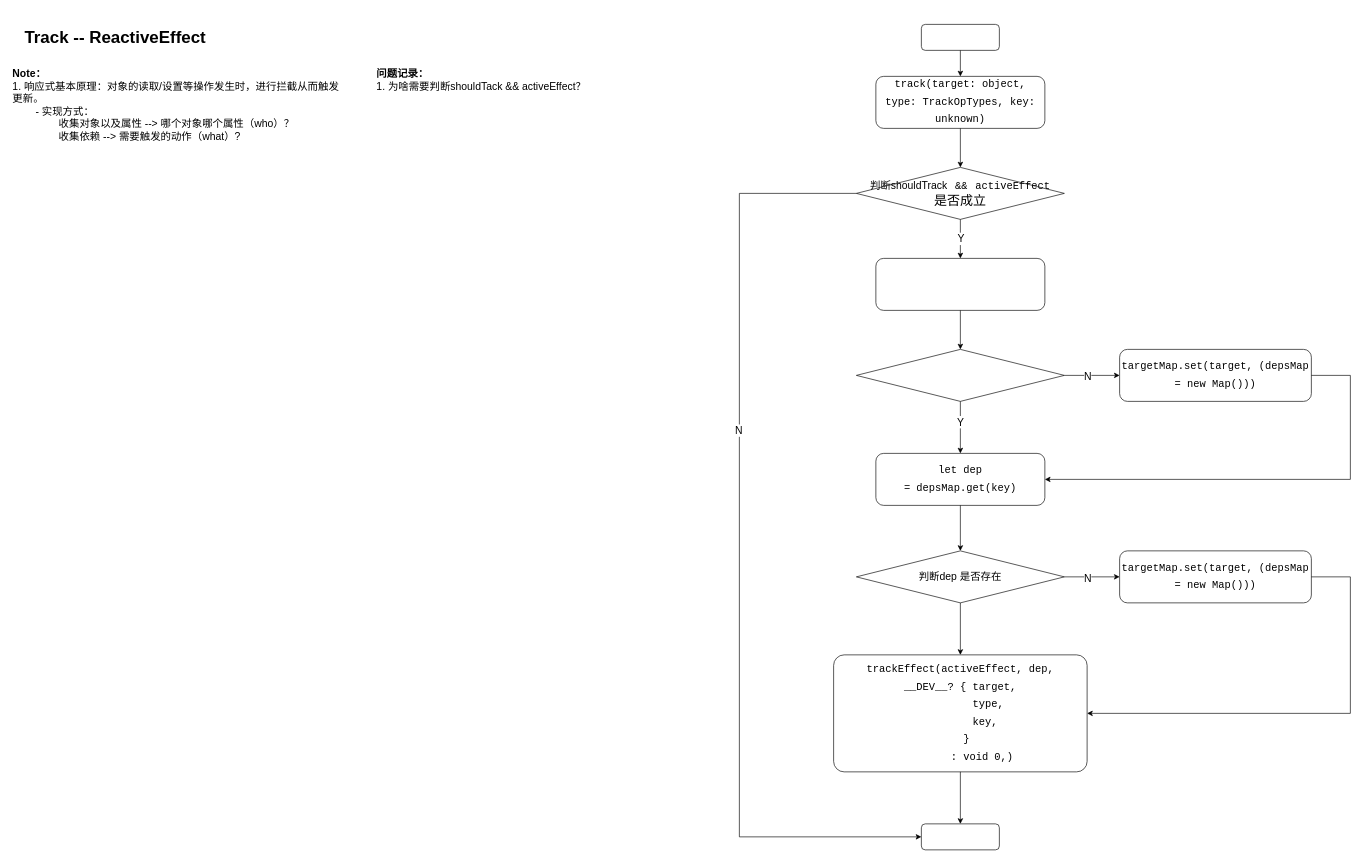
Some shapes in this 1367 by 861 pixel diagram are drawn without their labels. Each missing label, with the centre of its shape:
"let depsMap = targetMap.get(target)" belongs at pixel 960 284.
"判断depsMap 是否存在" belongs at pixel 960 375.
"开始" belongs at pixel 960 37.
"结束" belongs at pixel 960 836.
